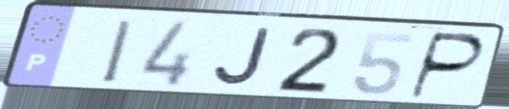2: (272, 25, 345, 97)
4: (137, 19, 196, 90)
5: (350, 30, 416, 97)
I: (99, 17, 138, 87)
J: (210, 25, 274, 90)
P: (405, 29, 489, 102)
